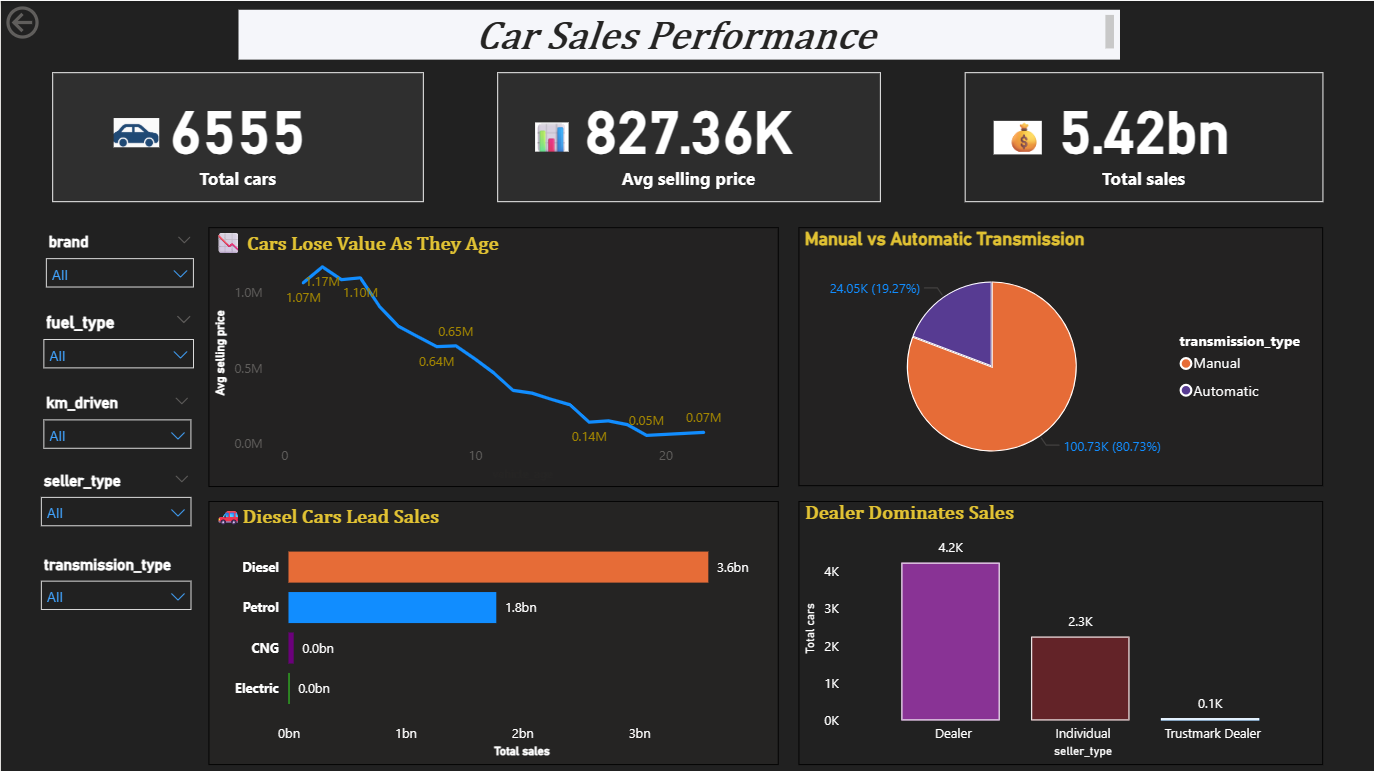

This screenshot's page, from the dashboard's own definition file:
{"tool":"powerbi","page":{"name":"Page 1","canvas":[1280,720],"ordinal":0},"visuals":[{"type":"card","fields":{"Values":["cardekho_dataset.Total cars","select"]},"box":[48,65.9,345.8,120.8],"z":0},{"type":"card","fields":{"Values":["cardekho_dataset.Avg selling price"]},"box":[461.1,65.9,356.8,120.8],"z":1000},{"type":"card","fields":{"Values":["cardekho_dataset.Total sales"]},"box":[896.1,65.9,333.4,120.8],"z":2000},{"type":"pieChart","title":"Manual vs Automatic Transmission","fields":{"Category":["cardekho_dataset.transmission_type"],"Y":["Sum(cardekho_dataset.mileage)"]},"box":[741.9,210.5,488.4,240.7],"z":3000},{"type":"columnChart","title":"Dealer Dominates Sales","fields":{"Category":["cardekho_dataset.seller_type"],"Y":["cardekho_dataset.Total cars"]},"box":[741.9,465.1,488.4,245.3],"z":4000},{"type":"barChart","title":"  🚗Diesel Cars Lead Sales","fields":{"Category":["cardekho_dataset.fuel_type"],"Y":["cardekho_dataset.Total sales"]},"box":[193,465.1,530.2,245.3],"z":5000},{"type":"lineChart","title":"📉 Cars Lose Value As They Age","fields":{"Y":["cardekho_dataset.Avg selling price"],"Category":["cardekho_dataset.vehicle_age"]},"box":[193,210.5,530.2,241.9],"z":6000},{"type":"slicer","fields":{"Values":["cardekho_dataset.brand"]},"box":[31.4,210.5,158.1,64],"z":7000},{"type":"slicer","fields":{"Values":["cardekho_dataset.fuel_type"]},"box":[29.1,284.9,160.5,64],"z":8000},{"type":"slicer","fields":{"Values":["cardekho_dataset.seller_type"]},"box":[26.7,432.6,160.5,65.1],"z":9000},{"type":"slicer","fields":{"Values":["cardekho_dataset.transmission_type"]},"box":[26.7,510.5,160.5,66.3],"z":10000},{"type":"slicer","fields":{"Values":["cardekho_dataset.km_driven"]},"box":[29.1,360.5,158.1,65.1],"z":11000},{"type":"textbox","box":[220.9,8.1,819.8,46.5],"z":12000},{"type":"actionButton","box":[0,0,100,40],"z":13000},{"type":"image","box":[100,97.7,52.3,48.8],"z":14000},{"type":"image","box":[918.6,103.5,54.7,46.5],"z":15000},{"type":"image","box":[487.2,108.1,51.2,37.2],"z":16000}]}

Visuals, with their boxes in screenshot pixels (x1, y1, x2, y2), scaled from the page's 1280x720 canvas onto the 1374x771 screenshot:
card - cardekho_dataset.Total cars x select: locate(52, 71, 423, 200)
card - cardekho_dataset.Avg selling price: locate(495, 71, 878, 200)
card - cardekho_dataset.Total sales: locate(962, 71, 1320, 200)
"Manual vs Automatic Transmission" pieChart: locate(796, 225, 1321, 483)
"Dealer Dominates Sales" columnChart: locate(796, 498, 1321, 761)
"  🚗Diesel Cars Lead Sales" barChart: locate(207, 498, 776, 761)
"📉 Cars Lose Value As They Age" lineChart: locate(207, 225, 776, 484)
slicer - cardekho_dataset.brand: locate(34, 225, 203, 294)
slicer - cardekho_dataset.fuel_type: locate(31, 305, 204, 374)
slicer - cardekho_dataset.seller_type: locate(29, 463, 201, 533)
slicer - cardekho_dataset.transmission_type: locate(29, 547, 201, 618)
slicer - cardekho_dataset.km_driven: locate(31, 386, 201, 456)
textbox: locate(237, 9, 1117, 58)
actionButton: locate(0, 0, 107, 43)
image: locate(107, 105, 163, 157)
image: locate(986, 111, 1045, 161)
image: locate(523, 116, 578, 156)
